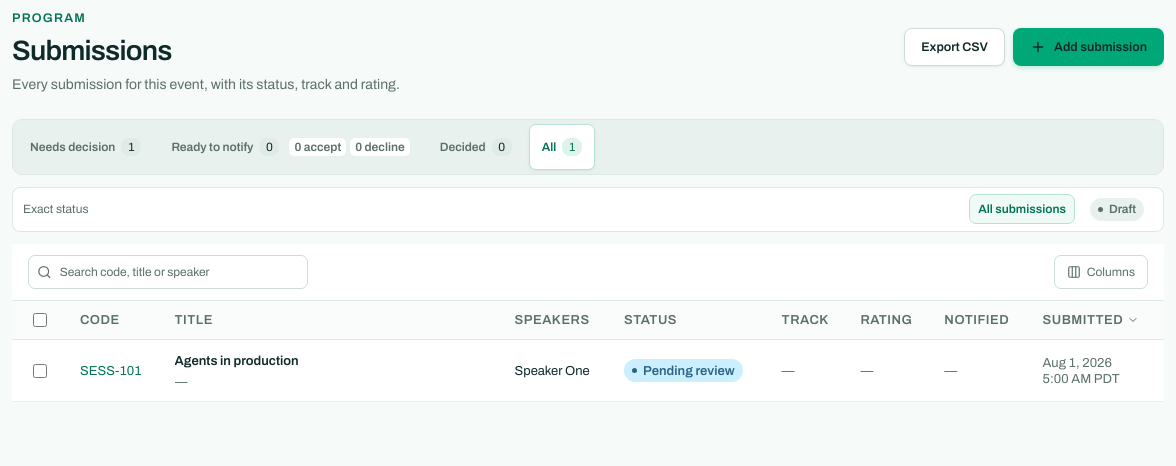
Submissions list after a bulk decision › shows the moved status and the new queue counts without a reload
Click the checkbox named "Select SESS-101, Agents in production". click: (40, 370)
box: [33,364,47,378]
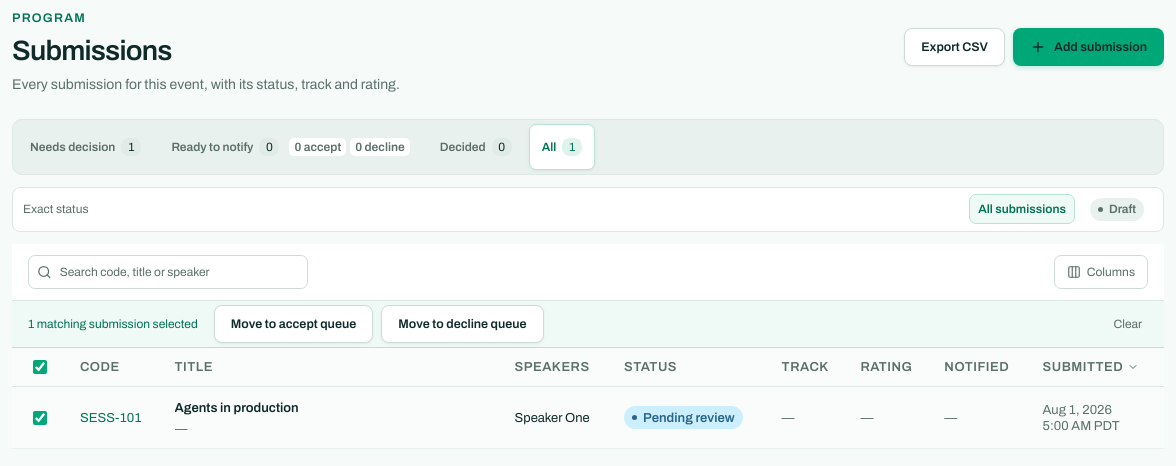
Expected: the text "Pending review" is shown, [624,406,743,429]
Click the button "Move to accept queue". click: (293, 324)
box: [214,304,373,342]
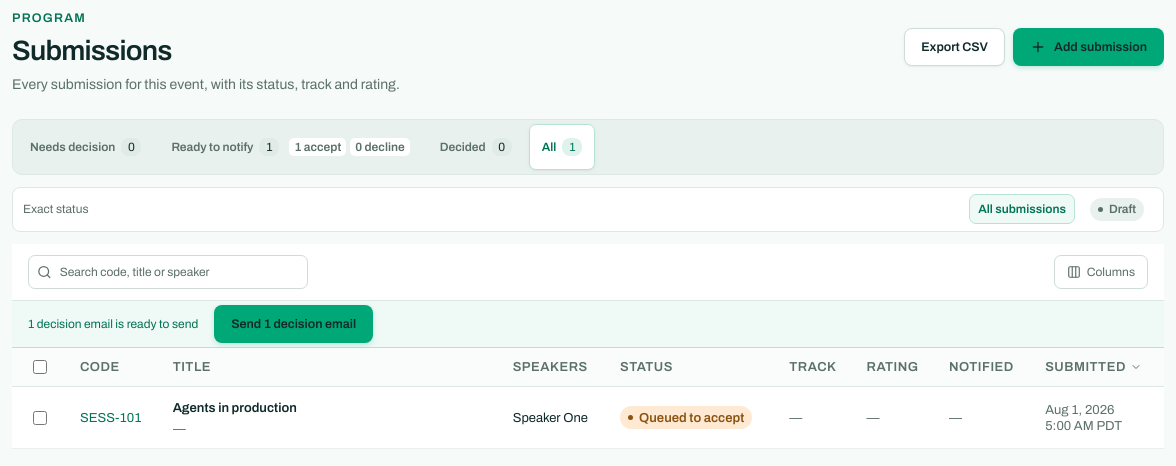
Expected: the text "Queued to accept" is shown, [620,406,752,429]
Expected: the text "Pending review" is gone
Expected: the text "1 decision email is ready to send" is shown, [28,316,198,330]
